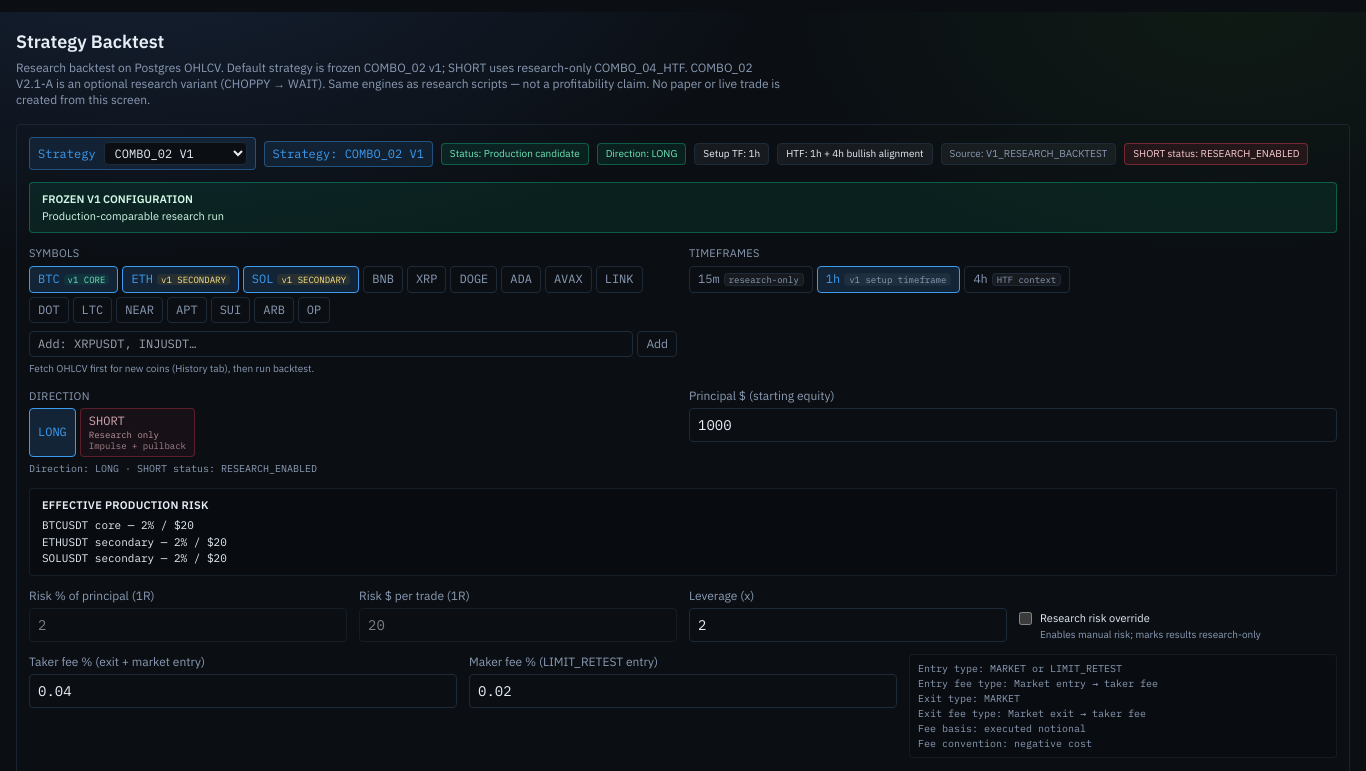
Test: BacktestPanel interaction paths › 16. Pre-run summary
Click the button with aria-label "ETHUSDT — v1 SECONDARY" at (181, 279), box [122,266,239,292]
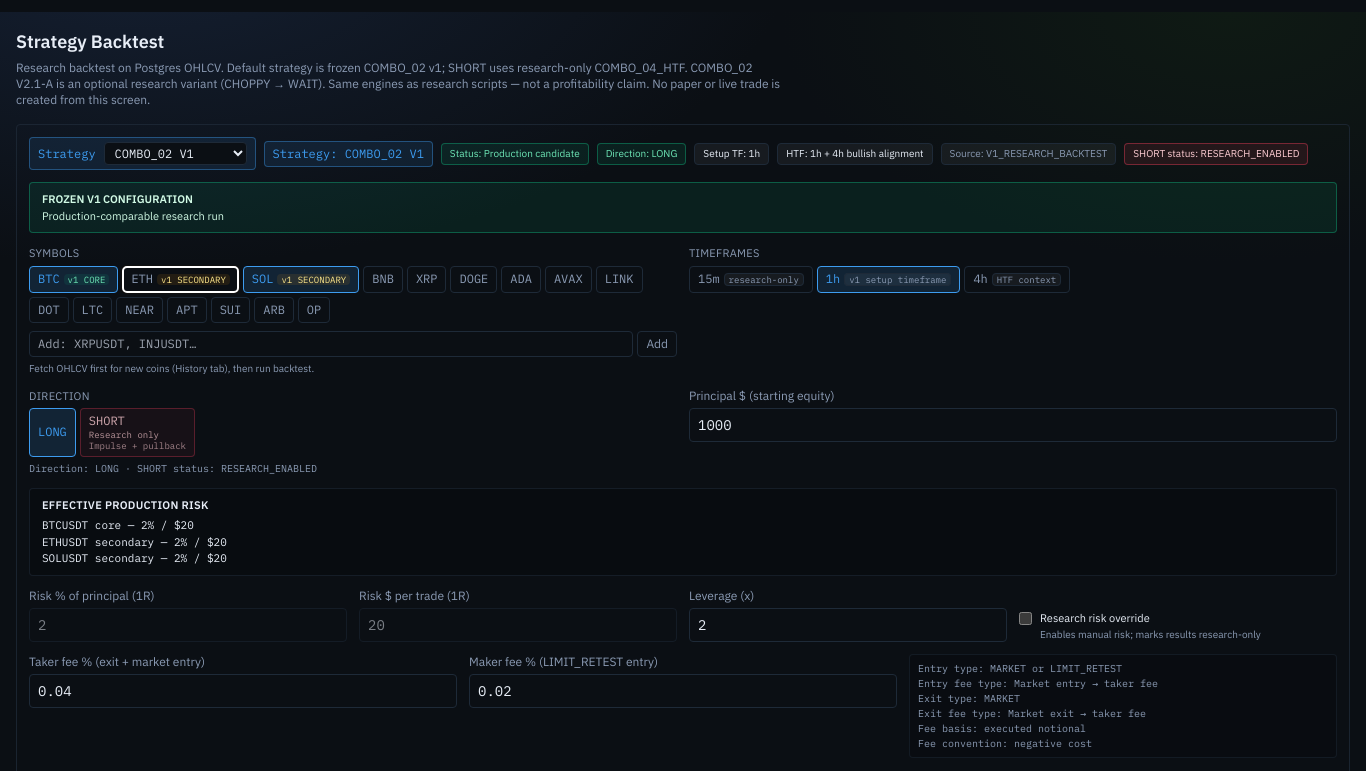
Click the button "SOLv1 SECONDARY" at (301, 279), box [243,266,359,292]
(page scrolled)
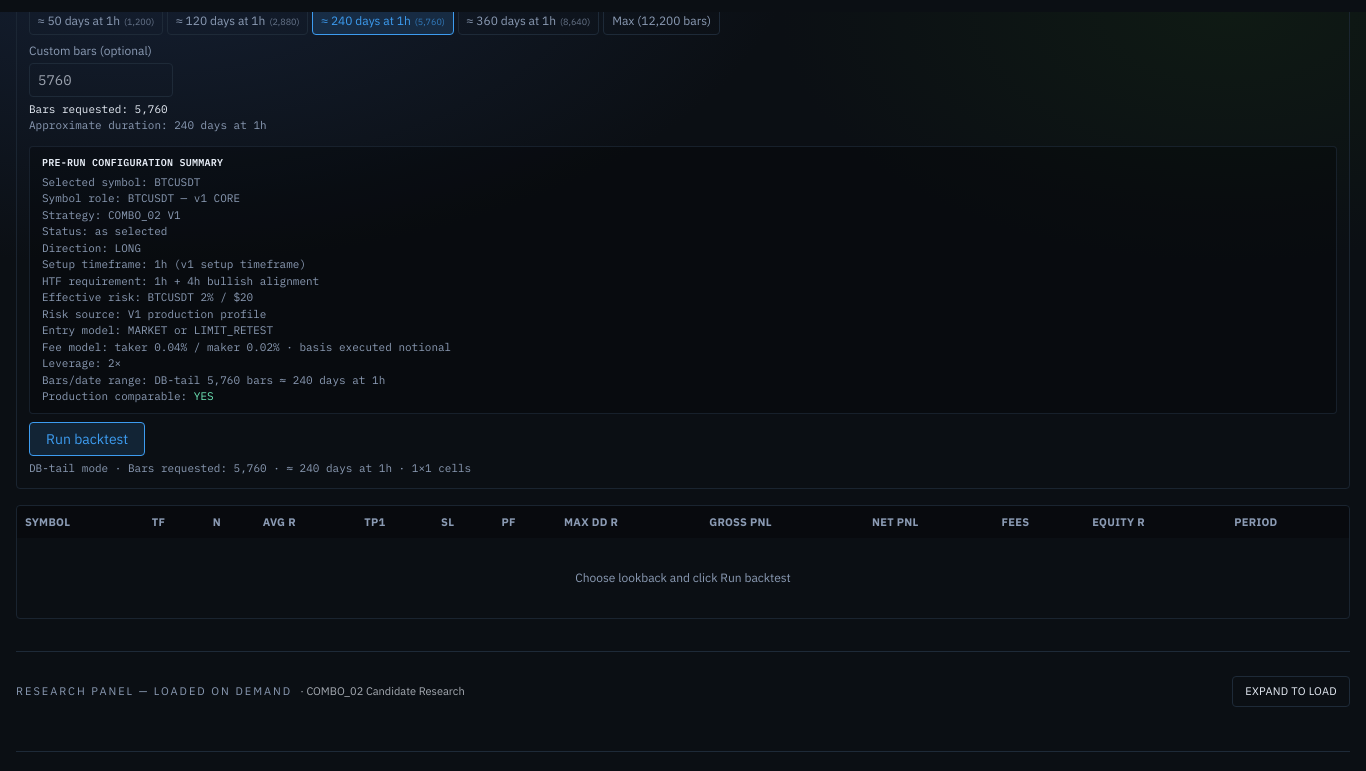
Expected: the text "Selected symbol: BTCUSDT" is shown, [42,174,200,188]
Expected: the text "Symbol role: BTCUSDT — v1 CORE" is shown, [42,191,240,205]
Expected: the text "Setup timeframe: 1h (v1 setup timeframe)" is shown, [42,257,306,271]
